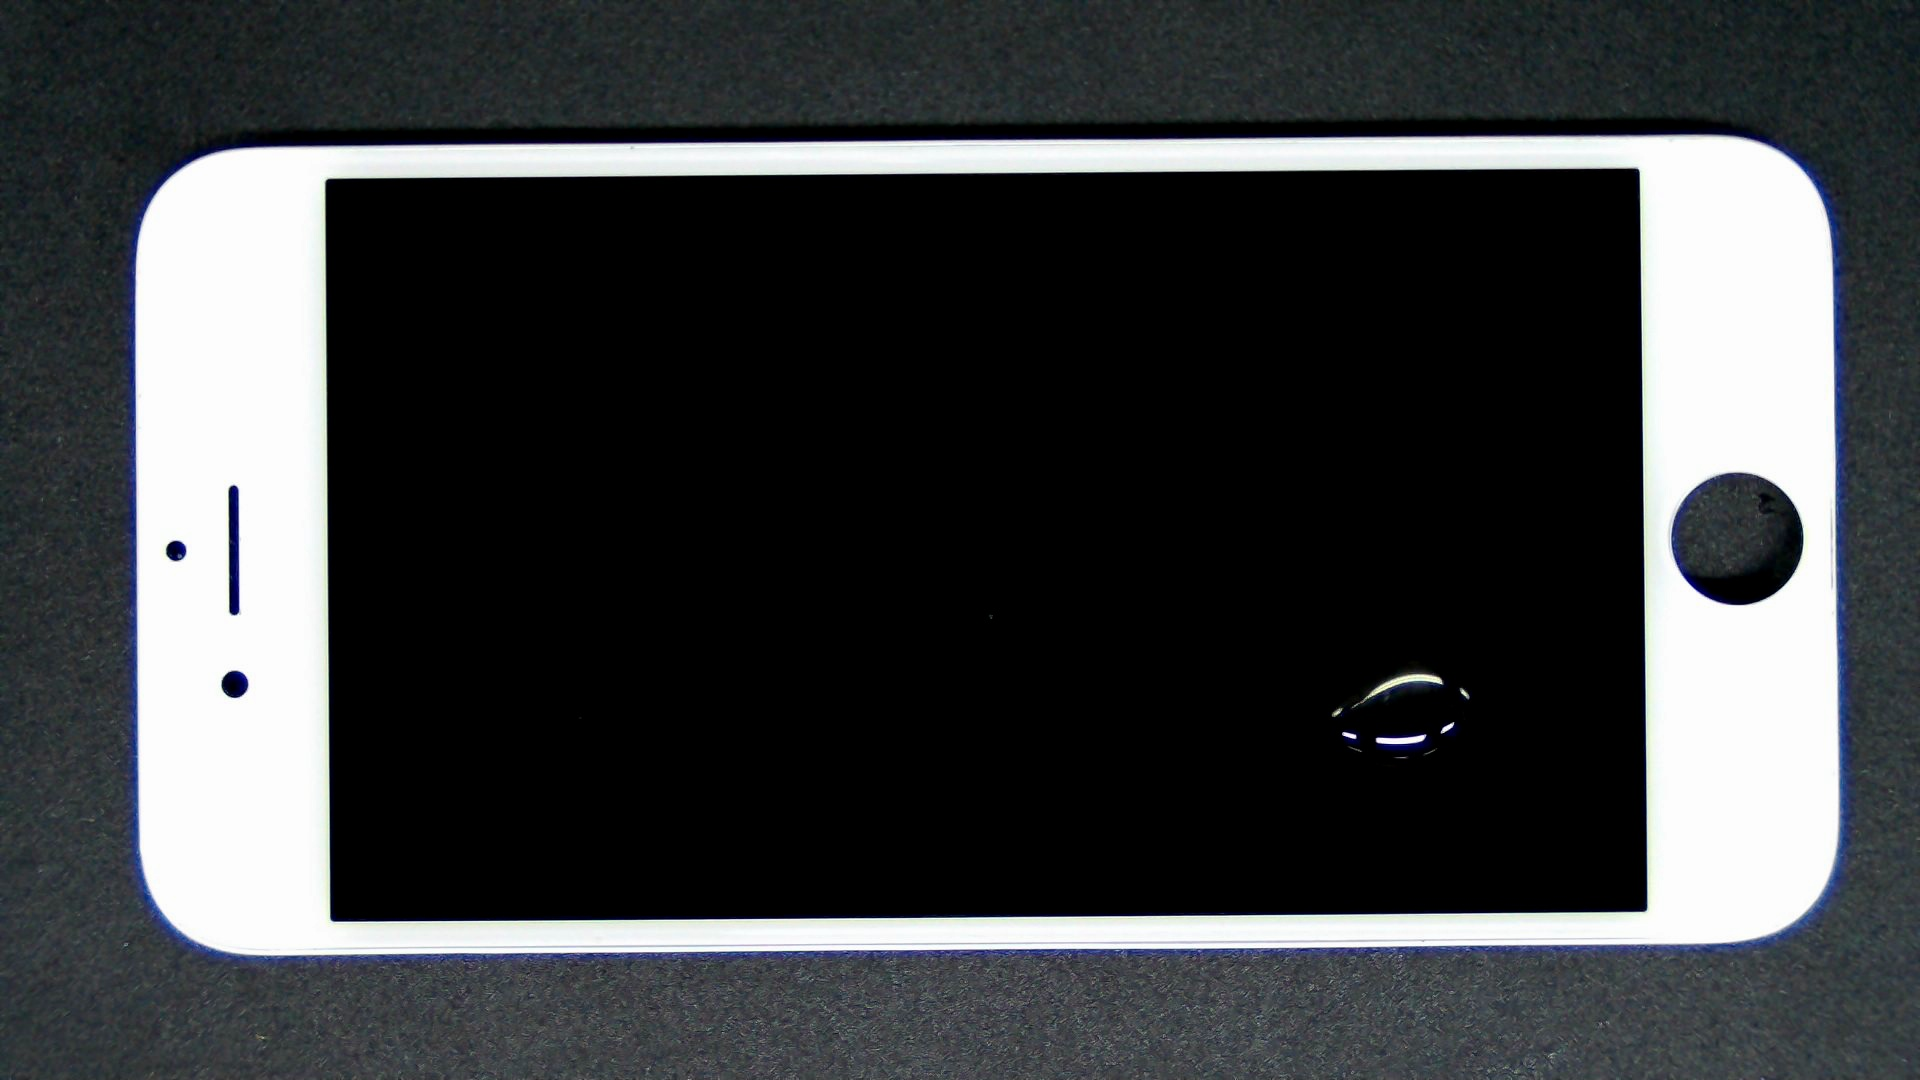oil: (708, 327, 1920, 985)
